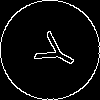Y: (25, 25, 81, 77)
